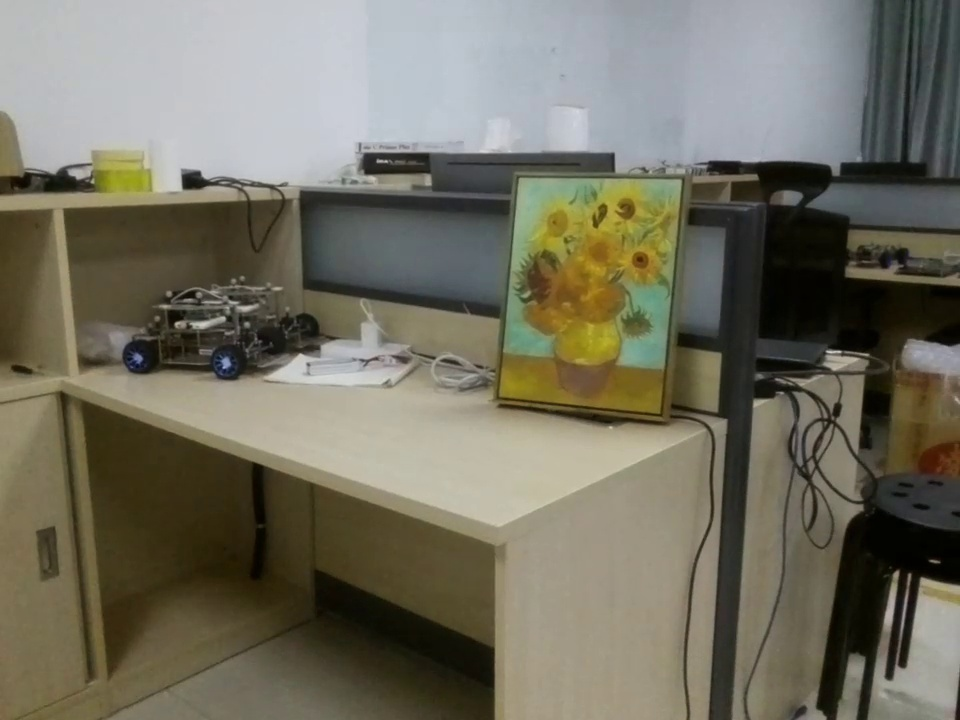painting: (499, 169, 687, 422)
